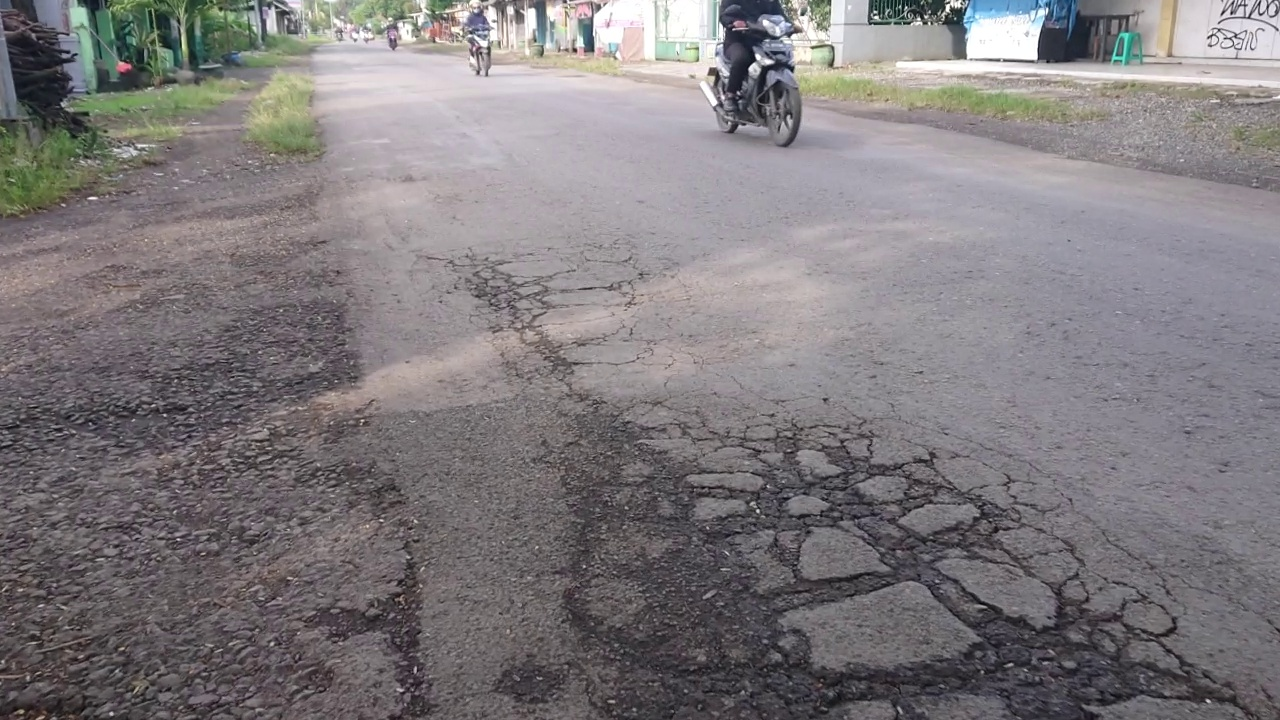Retak: (585, 427, 1243, 719), (453, 247, 639, 419)
